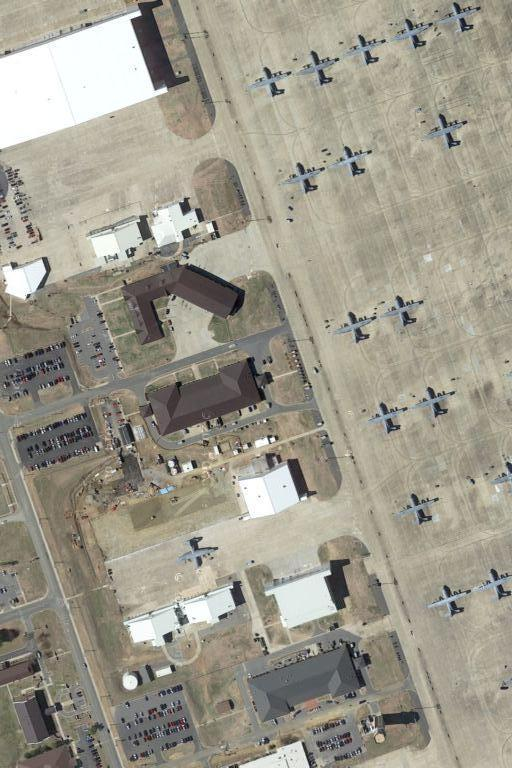C-130: (170, 533, 223, 573), (296, 46, 341, 93), (423, 110, 470, 155), (280, 156, 328, 200), (331, 305, 380, 348), (424, 581, 475, 622), (381, 289, 426, 332), (364, 400, 410, 439), (395, 491, 441, 530), (250, 62, 294, 102), (343, 30, 388, 69), (413, 384, 457, 423), (436, 3, 484, 37), (330, 143, 374, 179), (392, 17, 434, 54), (476, 564, 511, 606)
